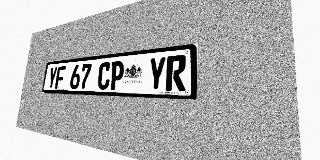6: (69, 64, 82, 89)
7: (79, 63, 92, 89)
C: (97, 62, 111, 90)
F: (55, 66, 66, 89)
P: (109, 60, 125, 90)
R: (165, 55, 187, 91)
Y: (147, 56, 166, 91), (47, 67, 58, 89)
